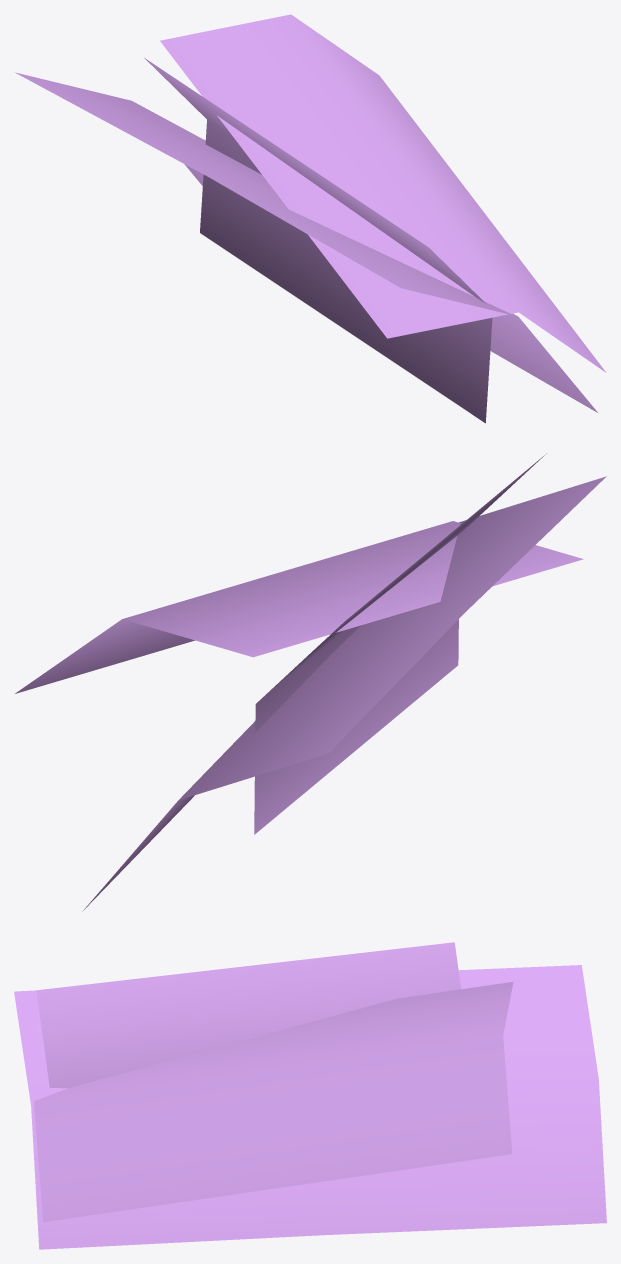
3 renders of one model, top to bottom at view 1: azimuth 30°, elevation 25°; view 2: azimuth 150°, elevation 25°; view 3: azimuth 270°, elevation 25°, orthographic. The views are drawn at different scales.
Visible parts, largest first — view 1: Object68; view 2: Object68; view 3: Object68.
Boxes of the visible parts, box(x1,y1,x2,y2) form: Object68: box(15, 14, 606, 423); Object68: box(15, 453, 606, 911); Object68: box(14, 942, 606, 1249).
Bounding box in the file's own units: 6897 × 4877 × 12252.
